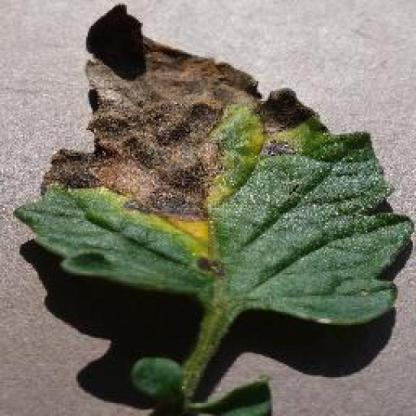Tomato_Blight: (20, 3, 402, 323)
